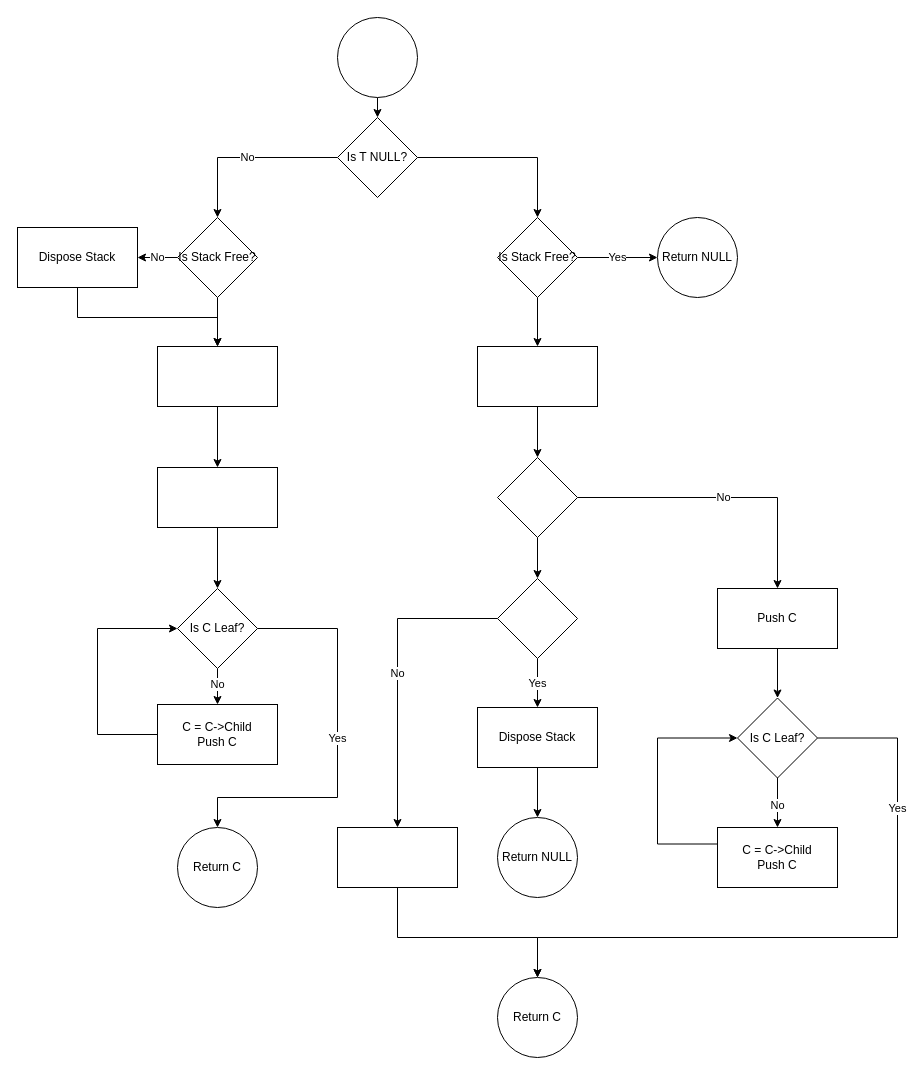
The diagram is 924 pixels wide and 1075 high, and some of its shapes have lost their labels. Here are the shapes that lost their labels. From the top down, the centre of each, then its label:
(x=377, y=57): Receive T
(x=217, y=376): Create Stack
(x=537, y=376): Pop C C = C->Sibling
(x=217, y=497): Push T C = T
(x=537, y=497): Is C NULL?
(x=537, y=618): Is Stack Empty?
(x=397, y=857): Peek C
